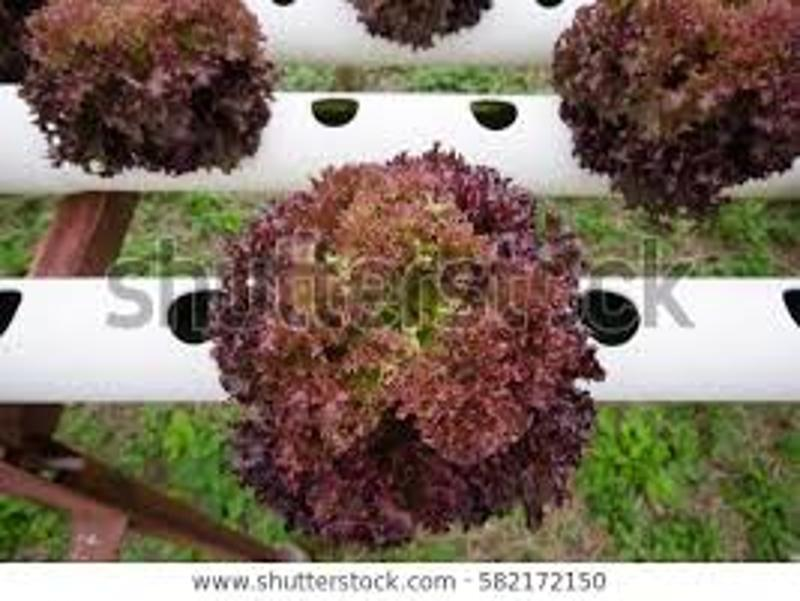red lettuce: (225, 145, 598, 547), (560, 9, 800, 219), (27, 1, 271, 180)
